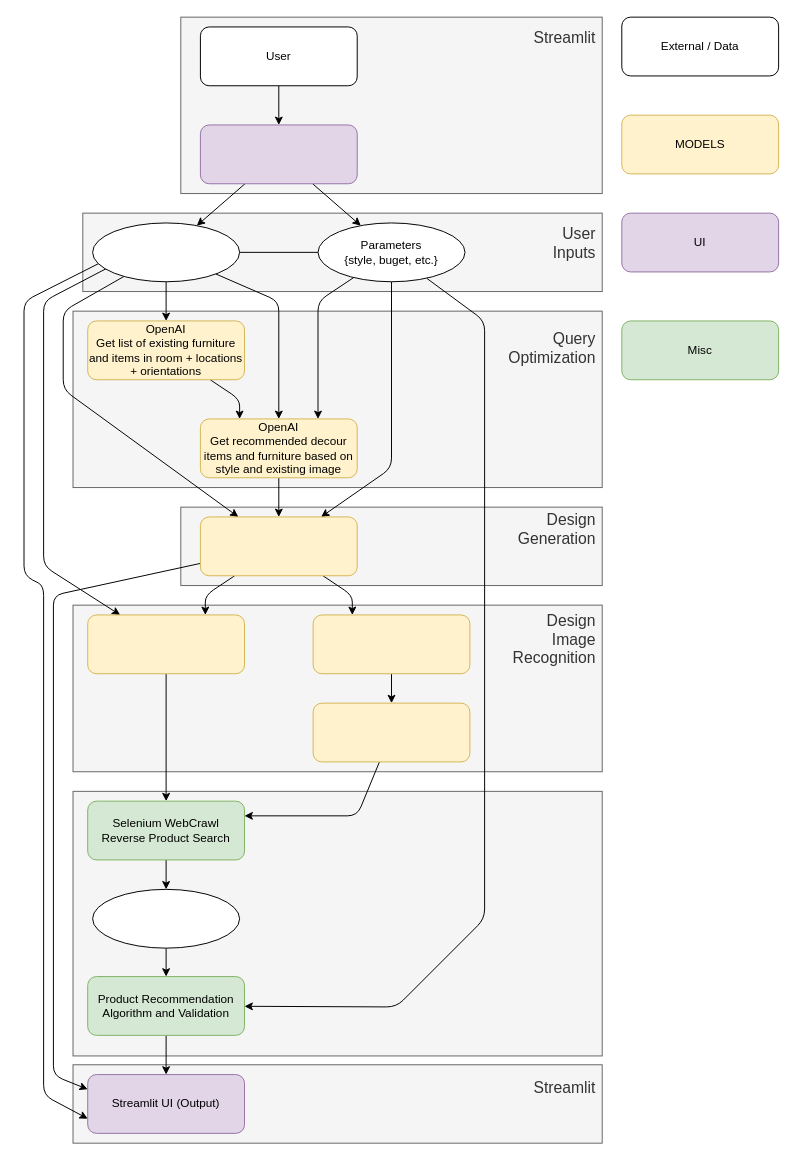
Some shapes in this 796 by 1160 pixel diagram are drawn without their labels. The box of each missing label's shape, as (x1, y1, x2, y2) in pixels:
Base Room Image: (92, 222, 240, 282)
Filtered Data {items, images, prices, urls}: (92, 888, 240, 948)
META Segment Anything Model Item image cropping to label pairing: (312, 702, 470, 762)
OpenAI Object diff detection -- get a list of new added items: (87, 614, 245, 674)
Potential Product Search and Selection: (72, 790, 602, 1056)
StableDesign Model Create our new room design: (199, 516, 357, 576)
Streamlit UI: (199, 124, 357, 184)
v7labs YOLO Model for Object Bounding and Detection: (312, 614, 470, 674)
